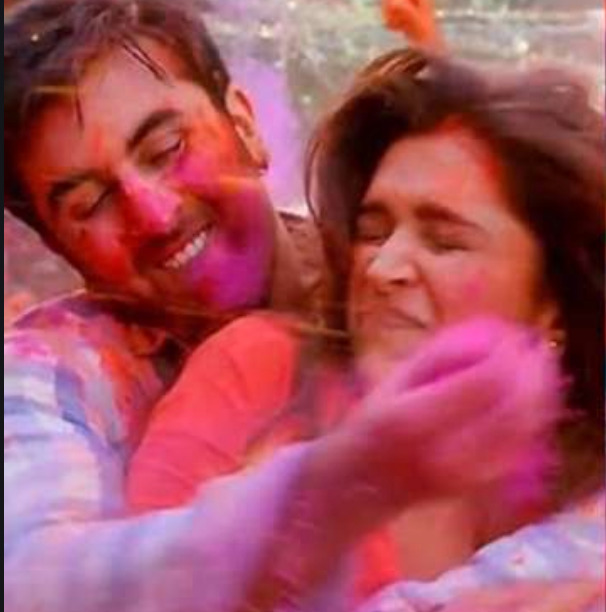Bad: (3, 2, 606, 612)
